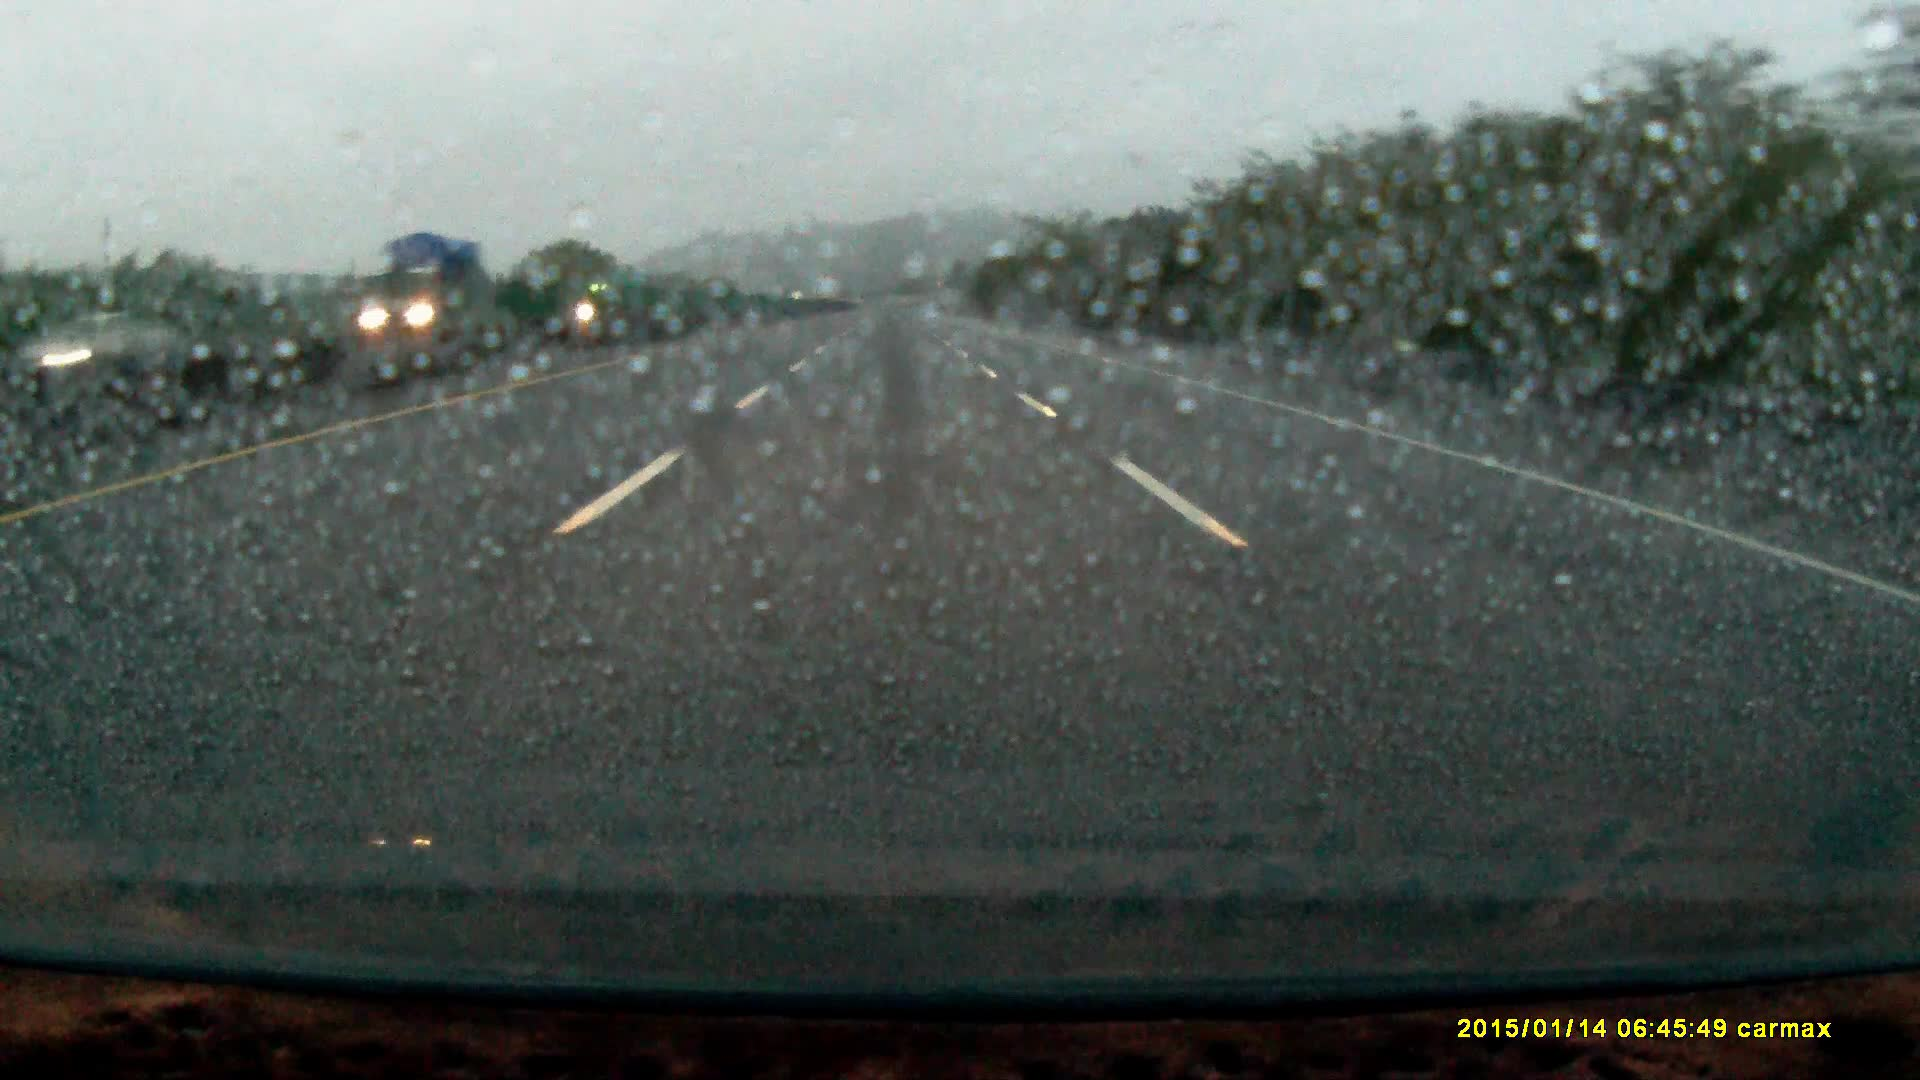vehicle: (365, 235, 479, 338), (18, 314, 178, 371), (578, 266, 650, 326)
